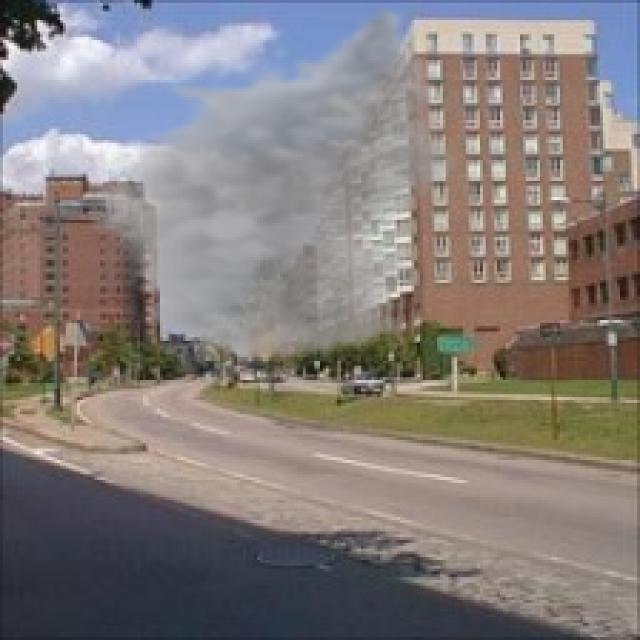Smoke: (83, 3, 466, 366)
